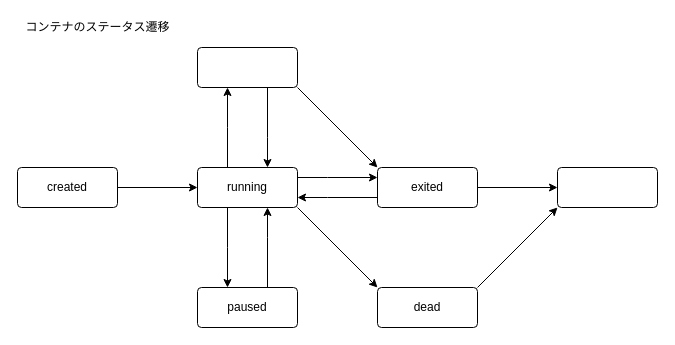
Some shapes in this 675 by 345 pixel diagram are drawn without their labels. Here are the shapes that lost their labels. From the top down, the box of each, then its label:
(196, 46, 298, 88): restarting
(556, 166, 658, 208): removing
